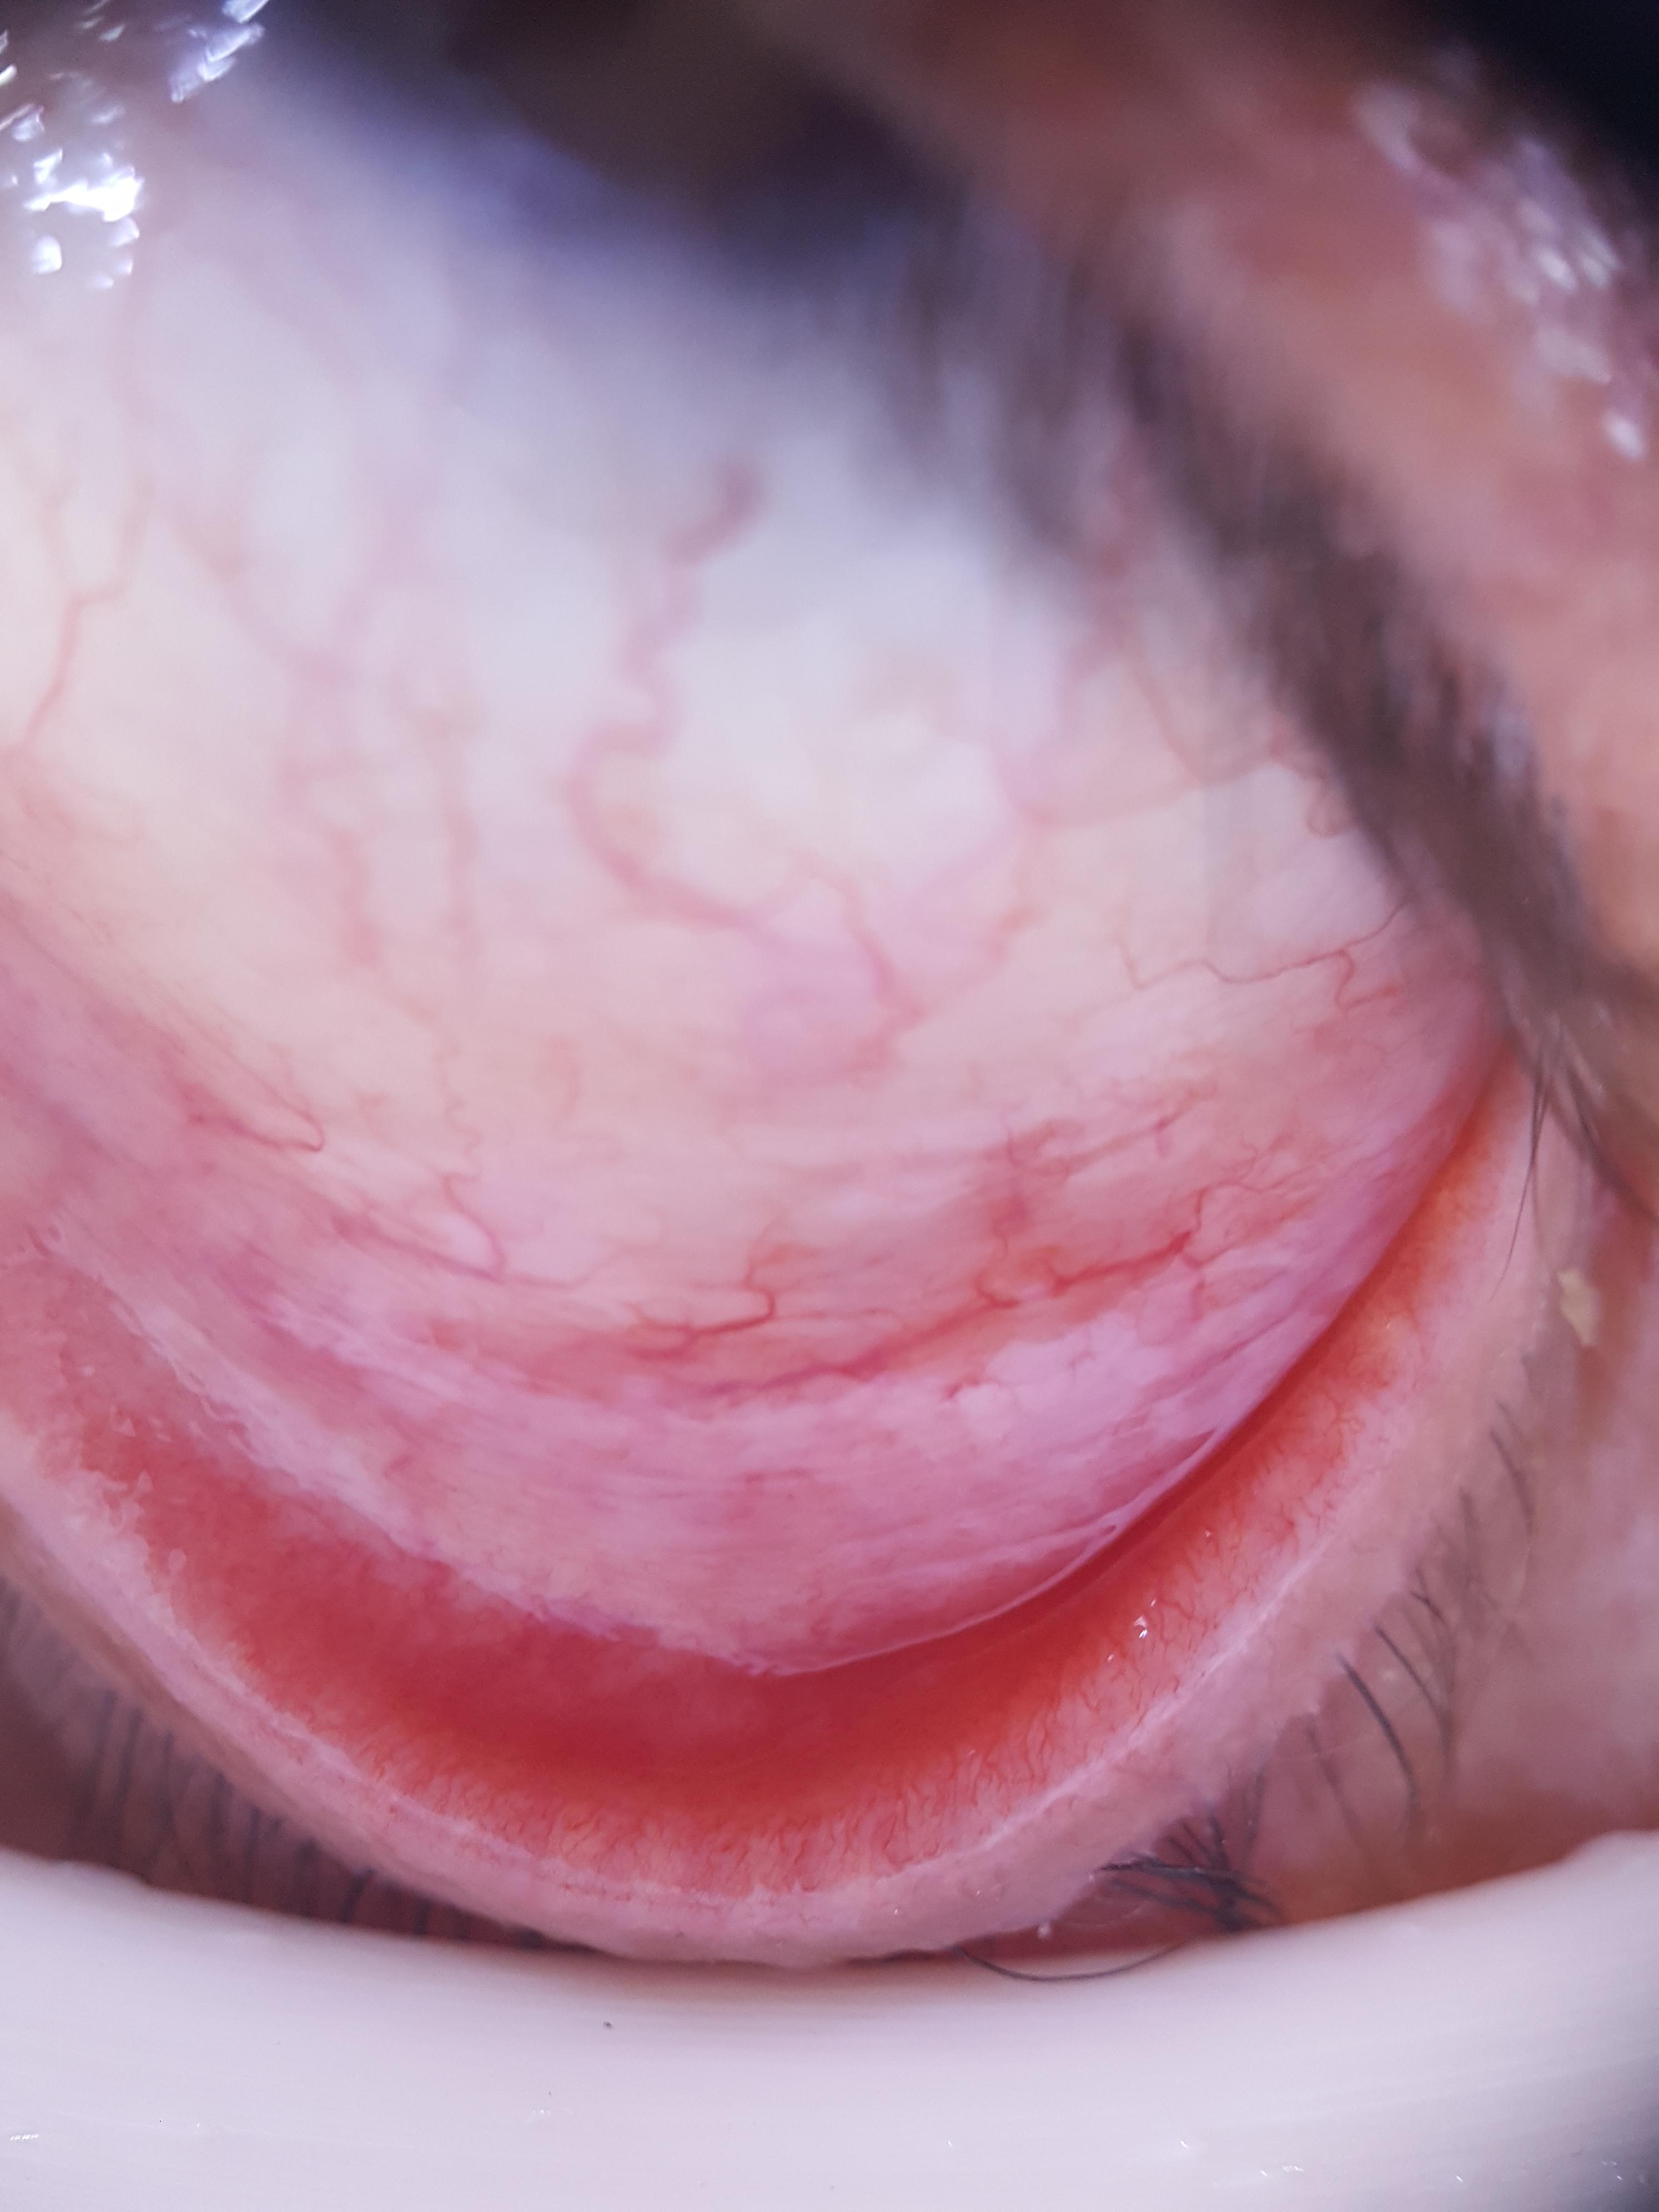forniceal: (5, 883, 1483, 1672)
forniceal_palpebral: (0, 883, 1516, 1893)
palpebral: (38, 1094, 1504, 1904)
